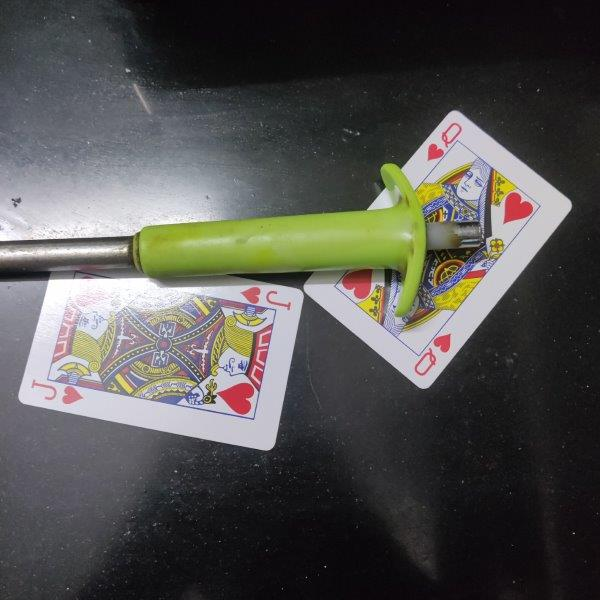Jack of Hearts: (18, 271, 303, 451)
Queen of Hearts: (303, 110, 573, 391)
